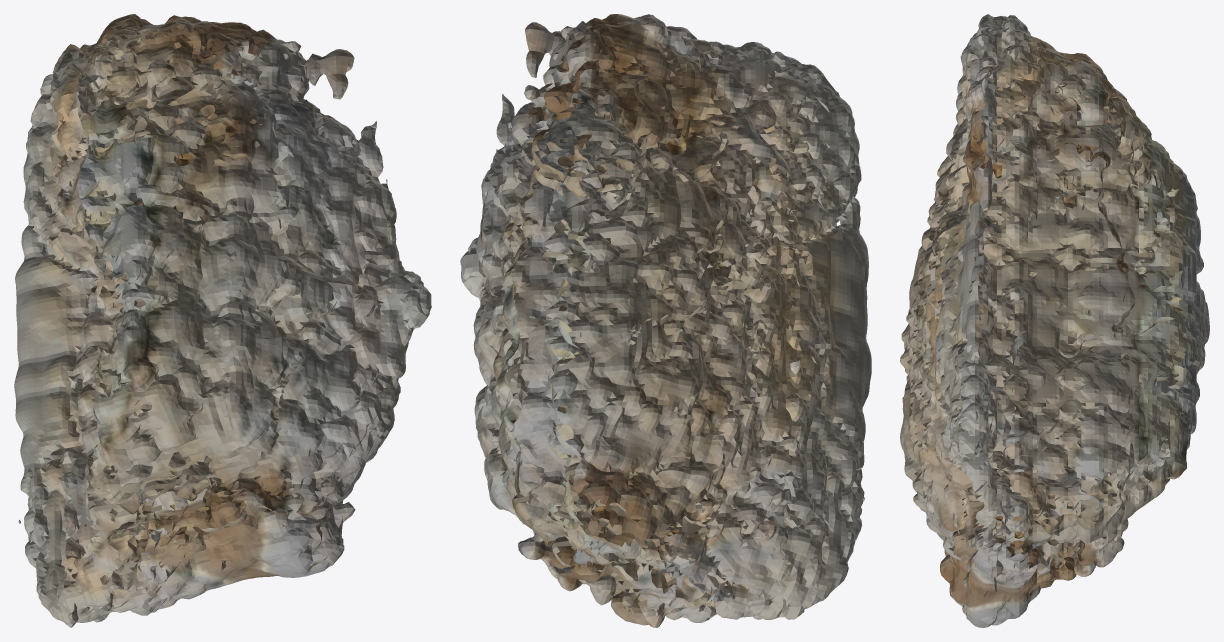
3 views of the same model, side by side, from view 1: azimuth 30°, elevation 25°; view 2: azimuth 150°, elevation 25°; view 3: azimuth 270°, elevation 25° (orthographic). The views are drawn at different scales.
Parts seen in each view (by area): view 1: world; view 2: world; view 3: world.
Part boxes in pixels (x1=…): world: x1=14, y1=14, x2=431, y2=627; world: x1=460, y1=14, x2=871, y2=627; world: x1=900, y1=14, x2=1209, y2=627.
Size of the model in its own units: 0.6635 by 0.8937 by 0.4766.
